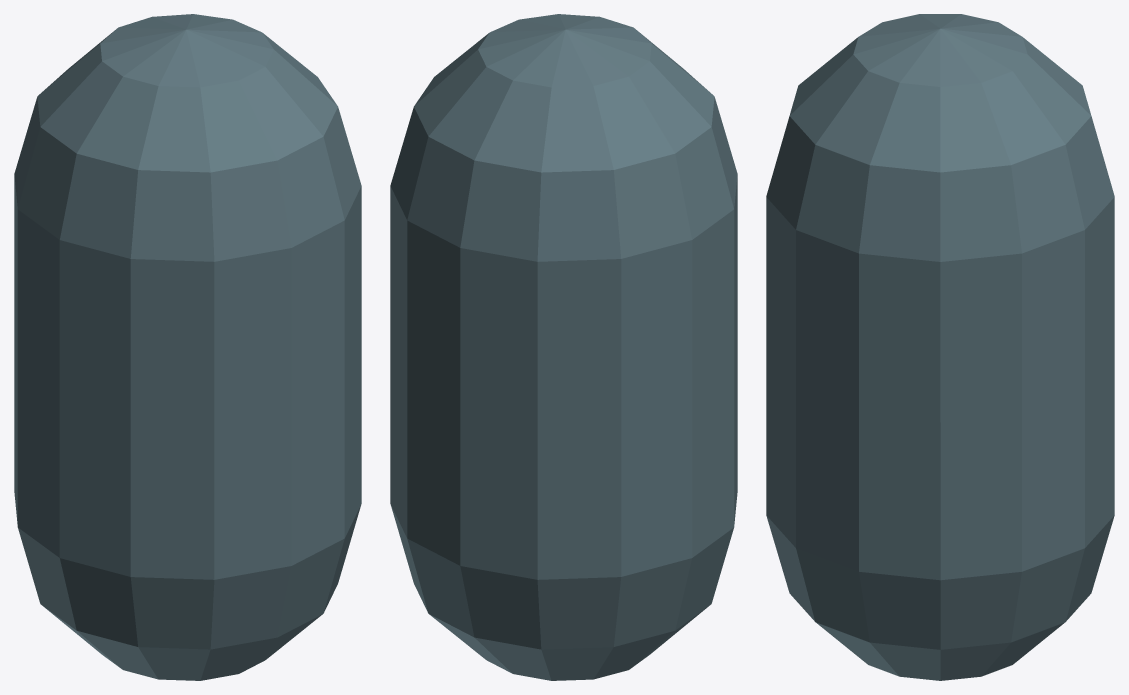
3 renders of one model, left to right at view 1: azimuth 30°, elevation 25°; view 2: azimuth 150°, elevation 25°; view 3: azimuth 270°, elevation 25°, orthographic.
Parts seen in each view (by area): view 1: Capsule; view 2: Capsule; view 3: Capsule.
Part boxes in pixels (left/top/right/bottom): Capsule: left=14, top=14, right=361, bottom=680; Capsule: left=390, top=14, right=737, bottom=680; Capsule: left=766, top=14, right=1114, bottom=680.
Bounding box in the file's own units: 0.9855 × 2 × 0.9927.
